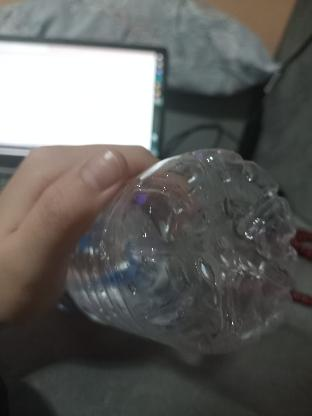Plastic Bottle: (61, 151, 305, 373)
